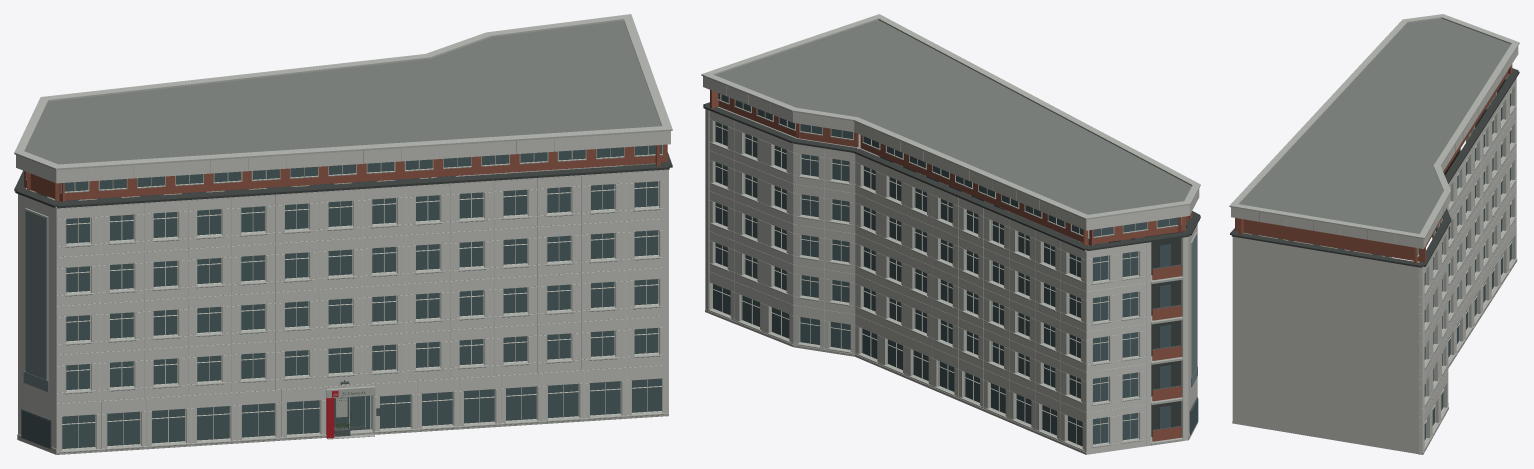
Rendered from stc-exterior-3a181d2002dc.glb.
3 views of the same model, side by side, from view 1: azimuth 30°, elevation 25°; view 2: azimuth 150°, elevation 25°; view 3: azimuth 270°, elevation 25° (orthographic). The views are drawn at different scales.
Visible parts, largest first — view 1: STC.001; view 2: STC.001; view 3: STC.001.
Part boxes in pixels (<box>): STC.001: <box>14,14,672,454</box>; STC.001: <box>701,14,1200,454</box>; STC.001: <box>1229,14,1519,454</box>.
Size of the model in its own units: 45.99 by 20.91 by 25.19.
